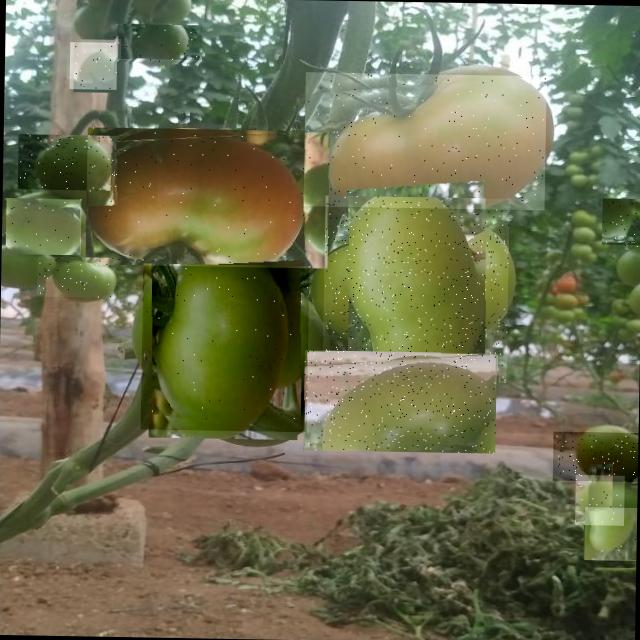Unripe Tomato: (322, 195, 509, 382), (85, 126, 329, 268), (303, 72, 546, 210), (140, 263, 309, 432), (303, 350, 497, 453), (17, 134, 116, 190), (5, 198, 81, 255), (552, 432, 638, 482), (113, 23, 202, 64), (36, 256, 114, 297), (584, 506, 637, 560), (574, 474, 624, 526), (69, 42, 117, 90), (600, 198, 640, 247)
